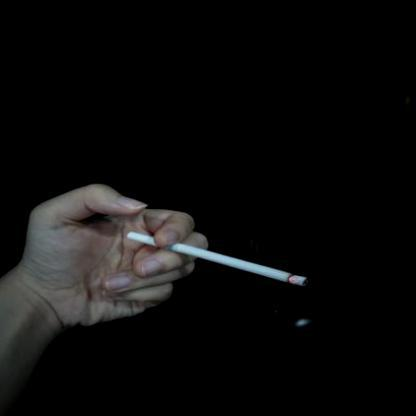cigarette: (127, 228, 308, 287)
